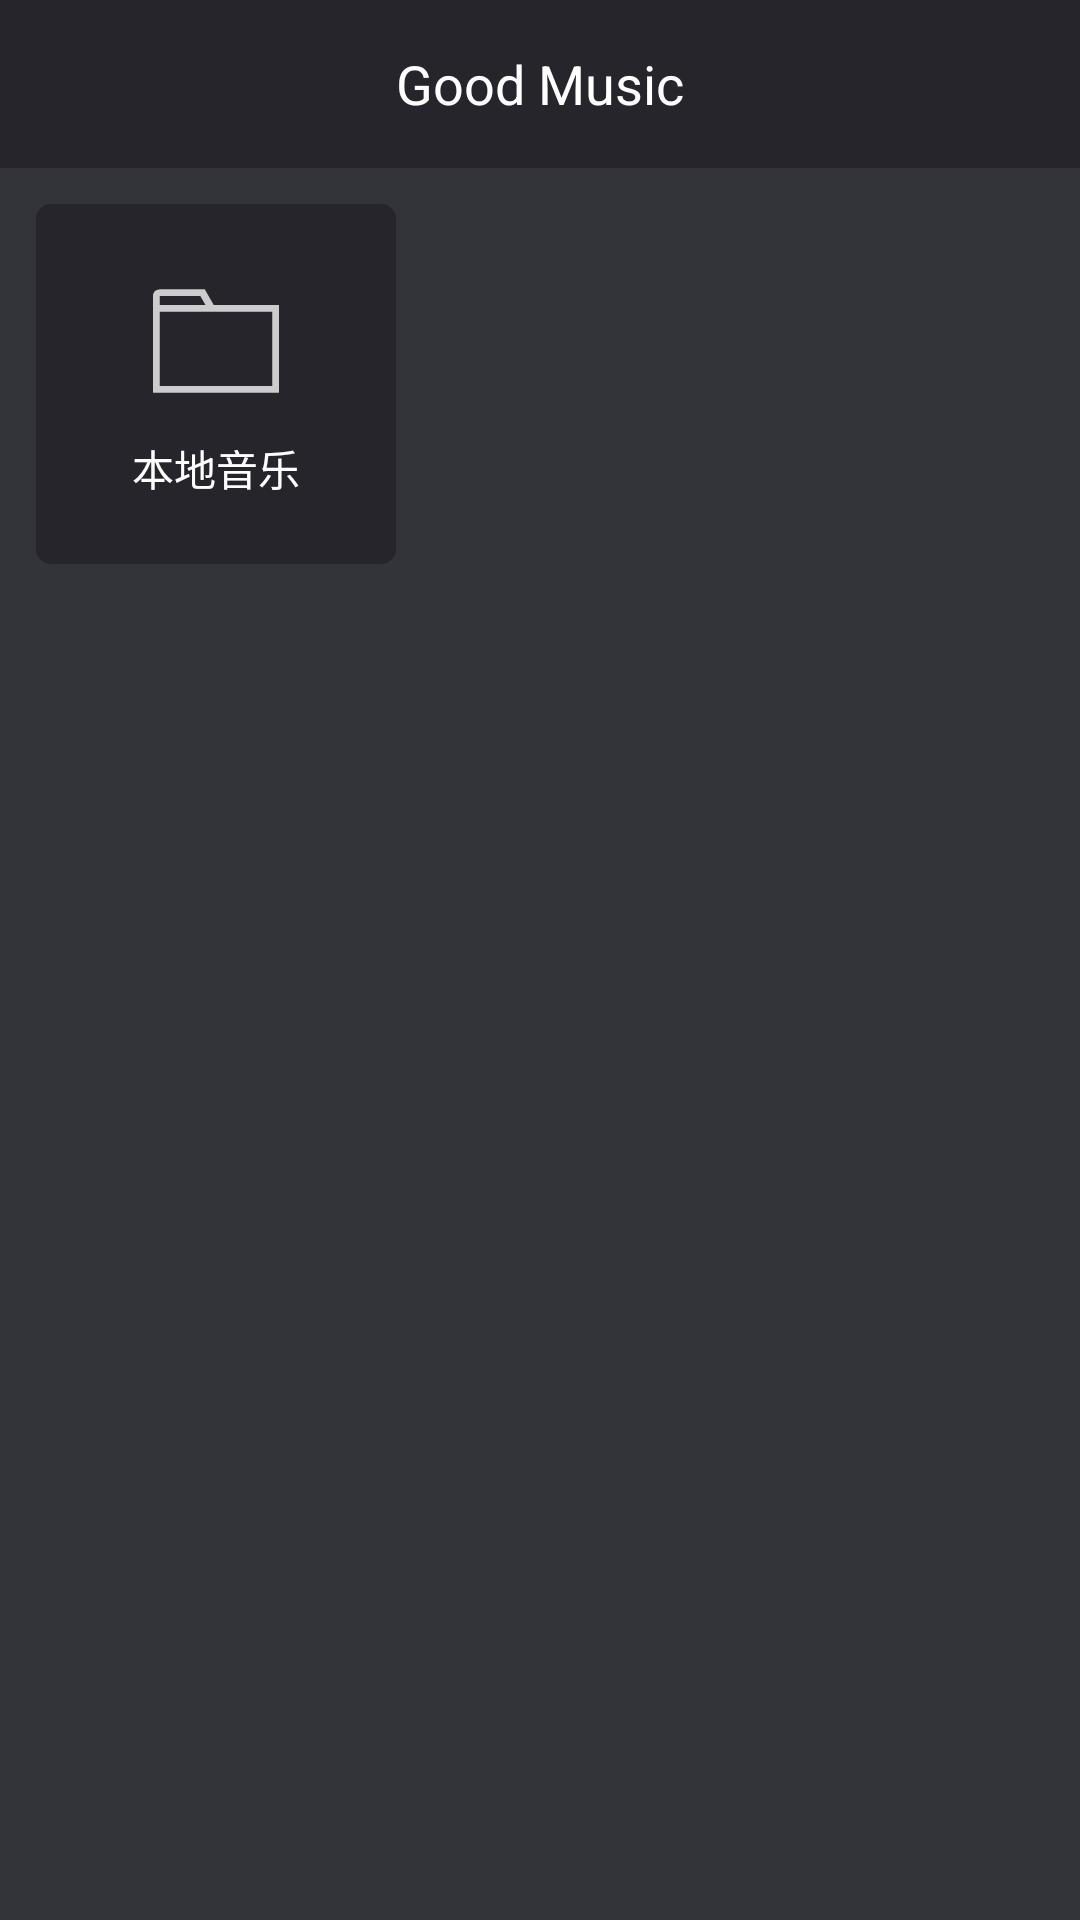

Where icons sit on this 1080x1920 app screen, as (x1=x1, y1=y1, x2=x2, y2=y2):
local: (x1=153, y1=289, x2=279, y2=393)
